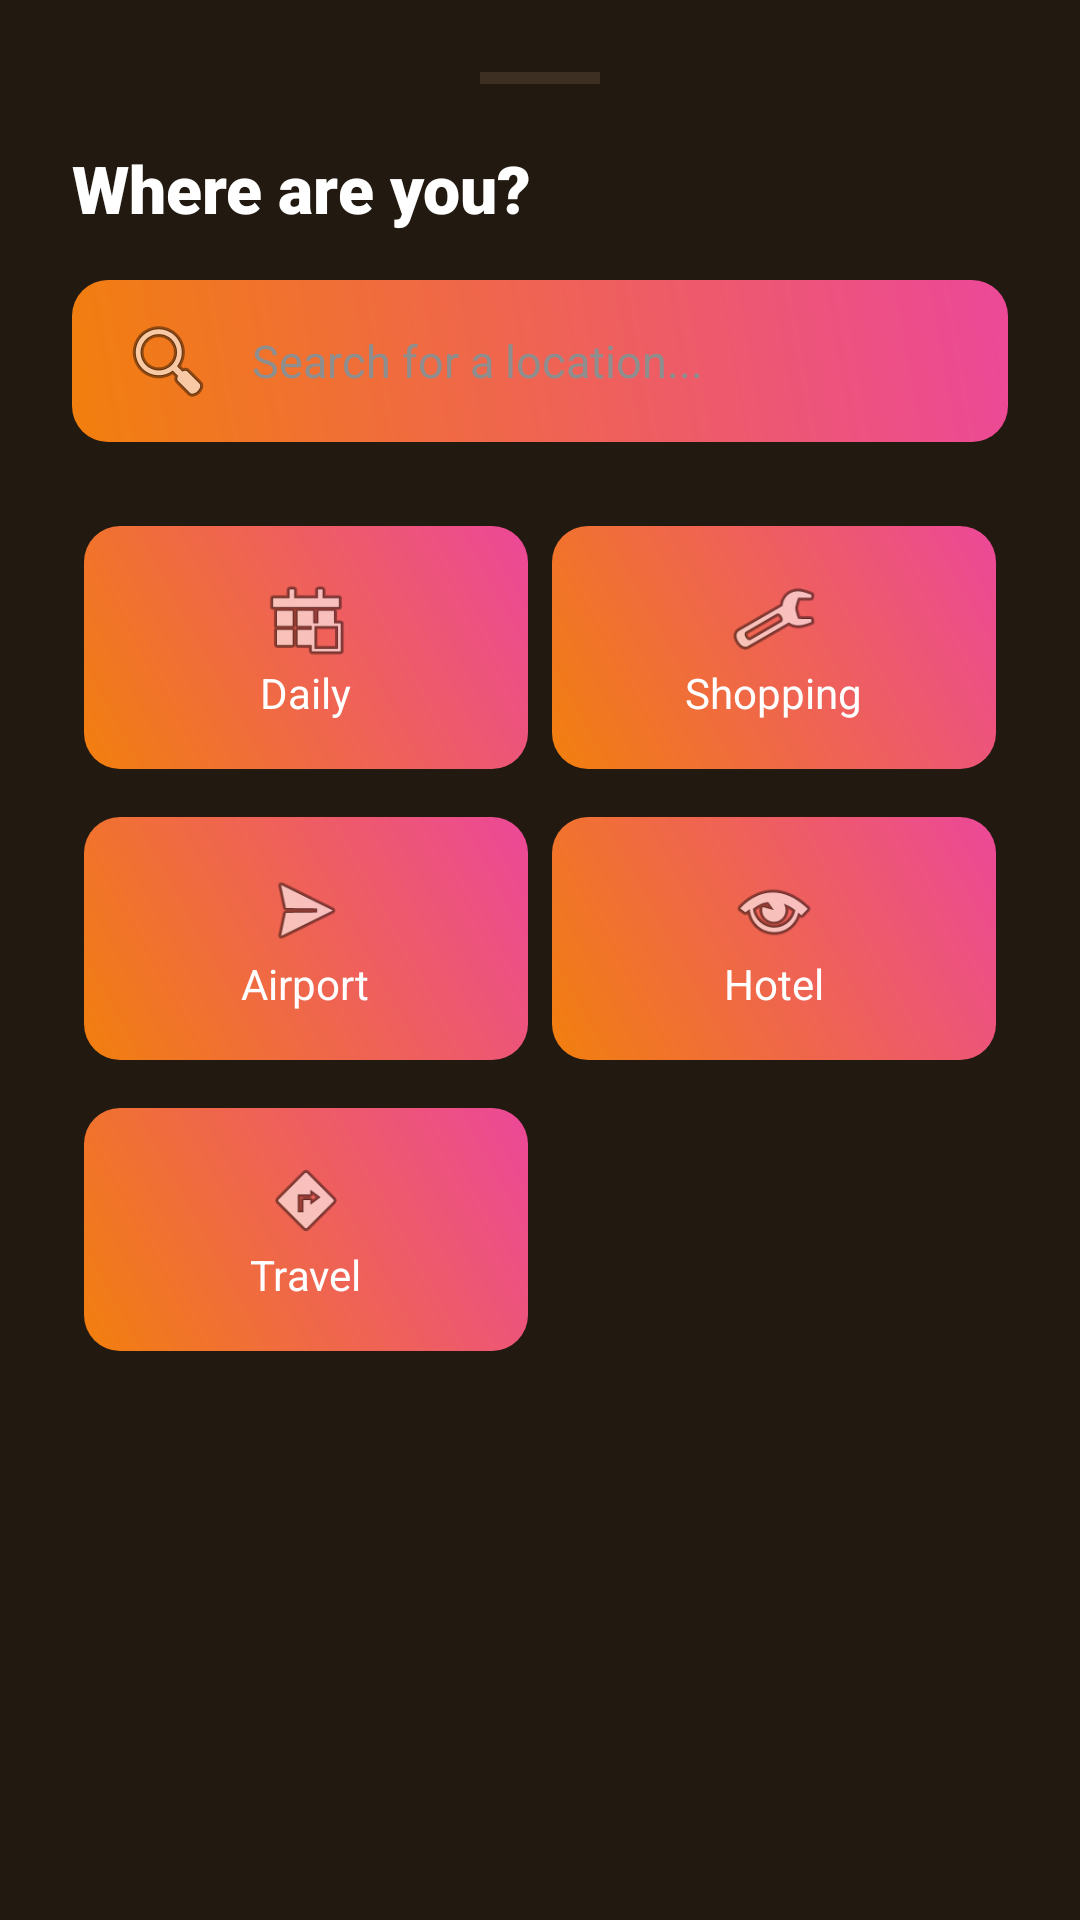

Where icons sit on this 1080*1920 app screen, as {"x1": x1, "y1": y1, "x2": x2, "y2": y2}:
directions: {"x1": 275, "y1": 1170, "x2": 337, "y2": 1231}
manage: {"x1": 729, "y1": 574, "x2": 818, "y2": 664}
send: {"x1": 277, "y1": 882, "x2": 336, "y2": 939}
today: {"x1": 261, "y1": 586, "x2": 344, "y2": 664}
view: {"x1": 737, "y1": 889, "x2": 811, "y2": 935}
